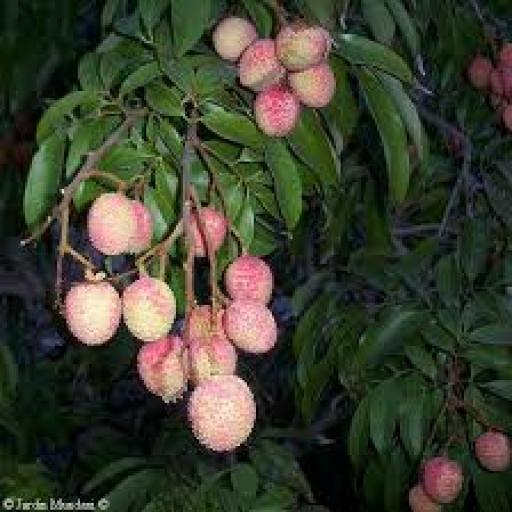lychee: (188, 376, 255, 452), (64, 283, 121, 345), (122, 276, 175, 341), (138, 337, 187, 402), (87, 194, 137, 254), (224, 301, 276, 352), (277, 23, 331, 70), (224, 255, 274, 304), (238, 39, 285, 91), (188, 337, 237, 384), (254, 85, 299, 136), (288, 62, 335, 109), (213, 16, 258, 61), (423, 458, 463, 505), (192, 208, 228, 257), (186, 305, 226, 341), (476, 433, 511, 471), (131, 201, 153, 252), (467, 55, 493, 91), (410, 485, 441, 511), (490, 69, 505, 95), (501, 66, 511, 100), (501, 105, 511, 131), (499, 44, 511, 65)
